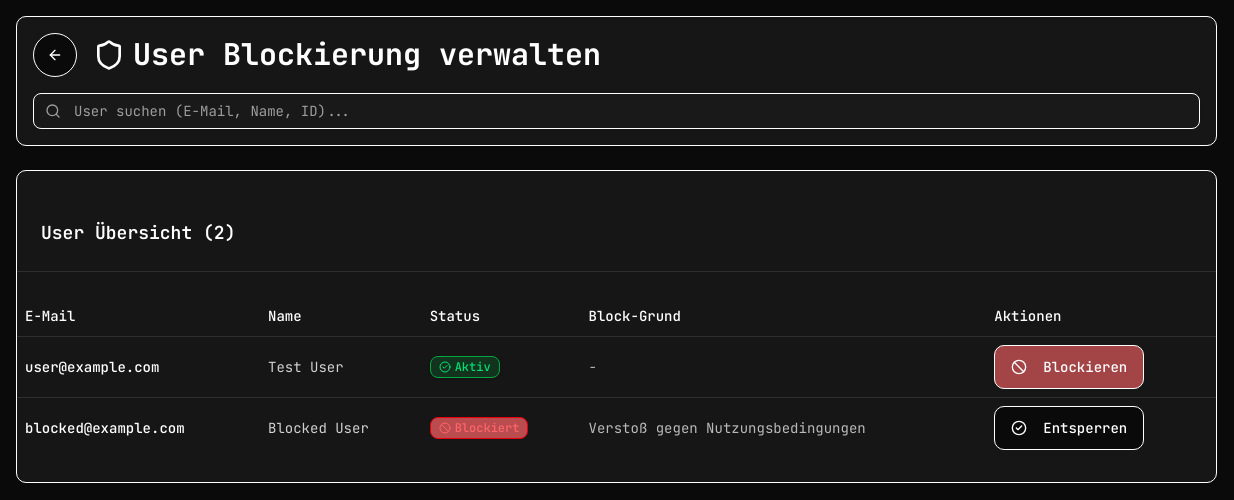
it: UserBlockManagement › Search Functionality › sollte User nach Name filtern
The width and height of the screenshot is (1234, 500).
Type "Blocked" into the field with placeholder "User suchen (E-Mail, Name, ID)..." at (616, 111), box [33, 93, 1200, 129]
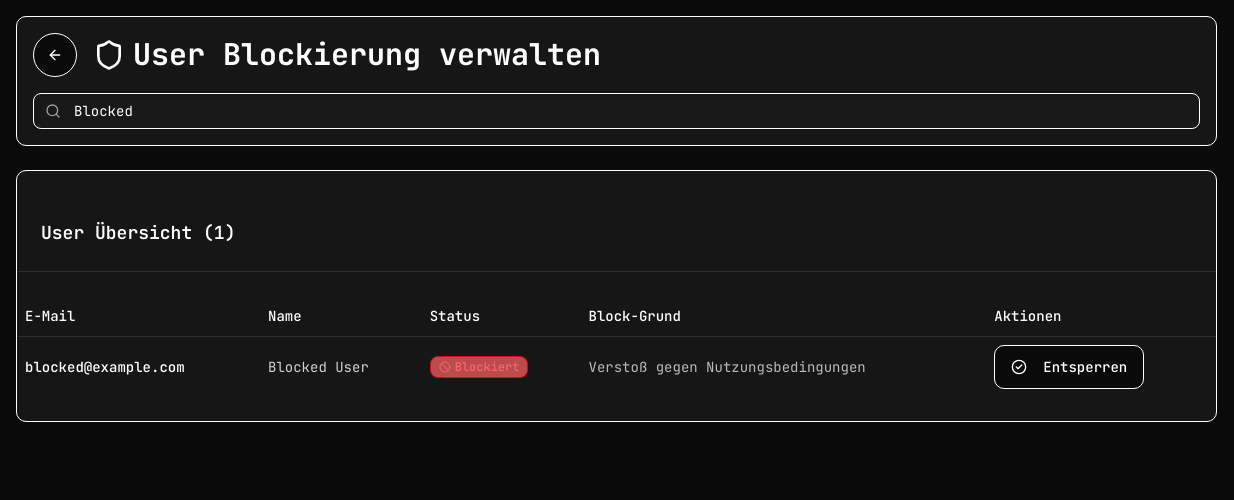
Now the text "Test User" is gone
